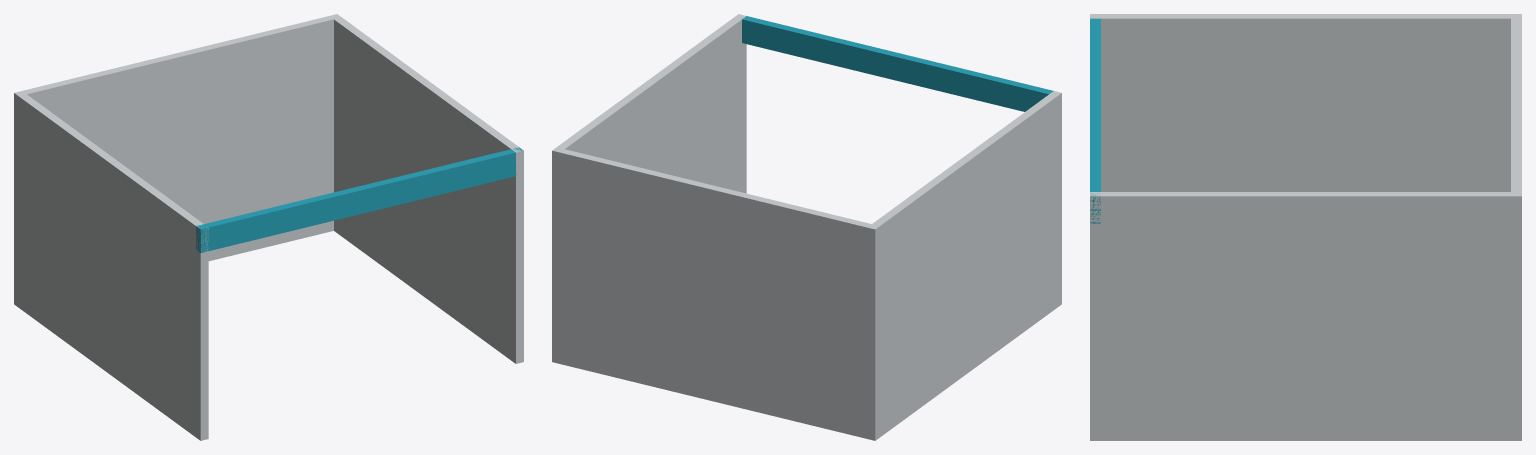
Rendered from booth-frame.v1.glb.
3 renders of one model, left to right at view 1: azimuth 30°, elevation 25°; view 2: azimuth 150°, elevation 25°; view 3: azimuth 270°, elevation 25°, orthographic. The views are drawn at different scales.
Visible parts, largest first — view 1: mesh_rear, mesh_side_-1, mesh_side_1, mesh_branding; view 2: mesh_rear, mesh_side_-1, mesh_side_1, mesh_branding; view 3: mesh_side_1, mesh_side_-1, mesh_rear, mesh_branding.
Boxes of the visible parts, <box> form: mesh_rear: <box>14,14,341,307</box>; mesh_side_-1: <box>18,94,208,440</box>; mesh_side_1: <box>334,17,523,363</box>; mesh_branding: <box>196,147,523,252</box>; mesh_rear: <box>552,147,879,440</box>; mesh_side_-1: <box>872,91,1061,437</box>; mesh_side_1: <box>557,14,746,193</box>; mesh_branding: <box>742,16,1053,111</box>; mesh_side_1: <box>1090,192,1510,440</box>; mesh_side_-1: <box>1090,14,1510,191</box>; mesh_rear: <box>1511,14,1521,440</box>; mesh_branding: <box>1090,18,1100,223</box>.
Bounding box in the file's own units: 4 × 2.5 × 4.
